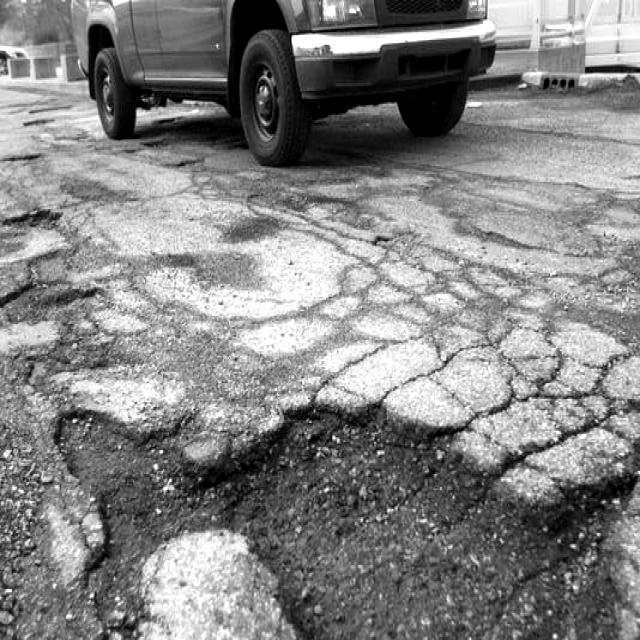pathole: (170, 311, 635, 640), (48, 394, 640, 640), (1, 120, 142, 583)
